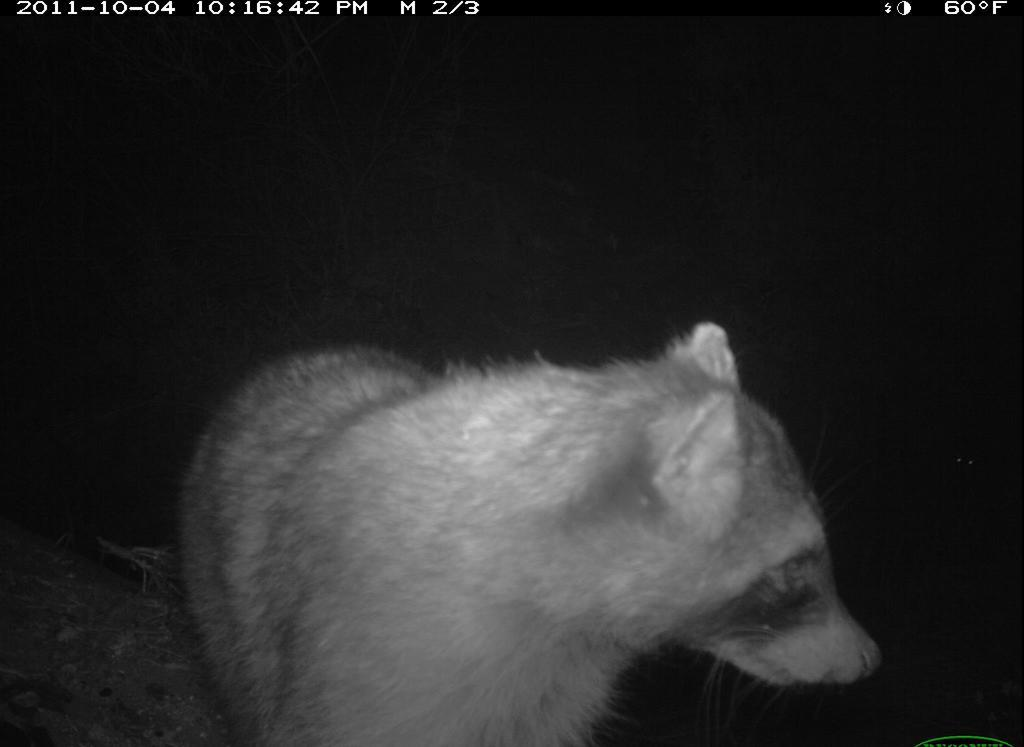raccoon: (173, 315, 888, 747)
